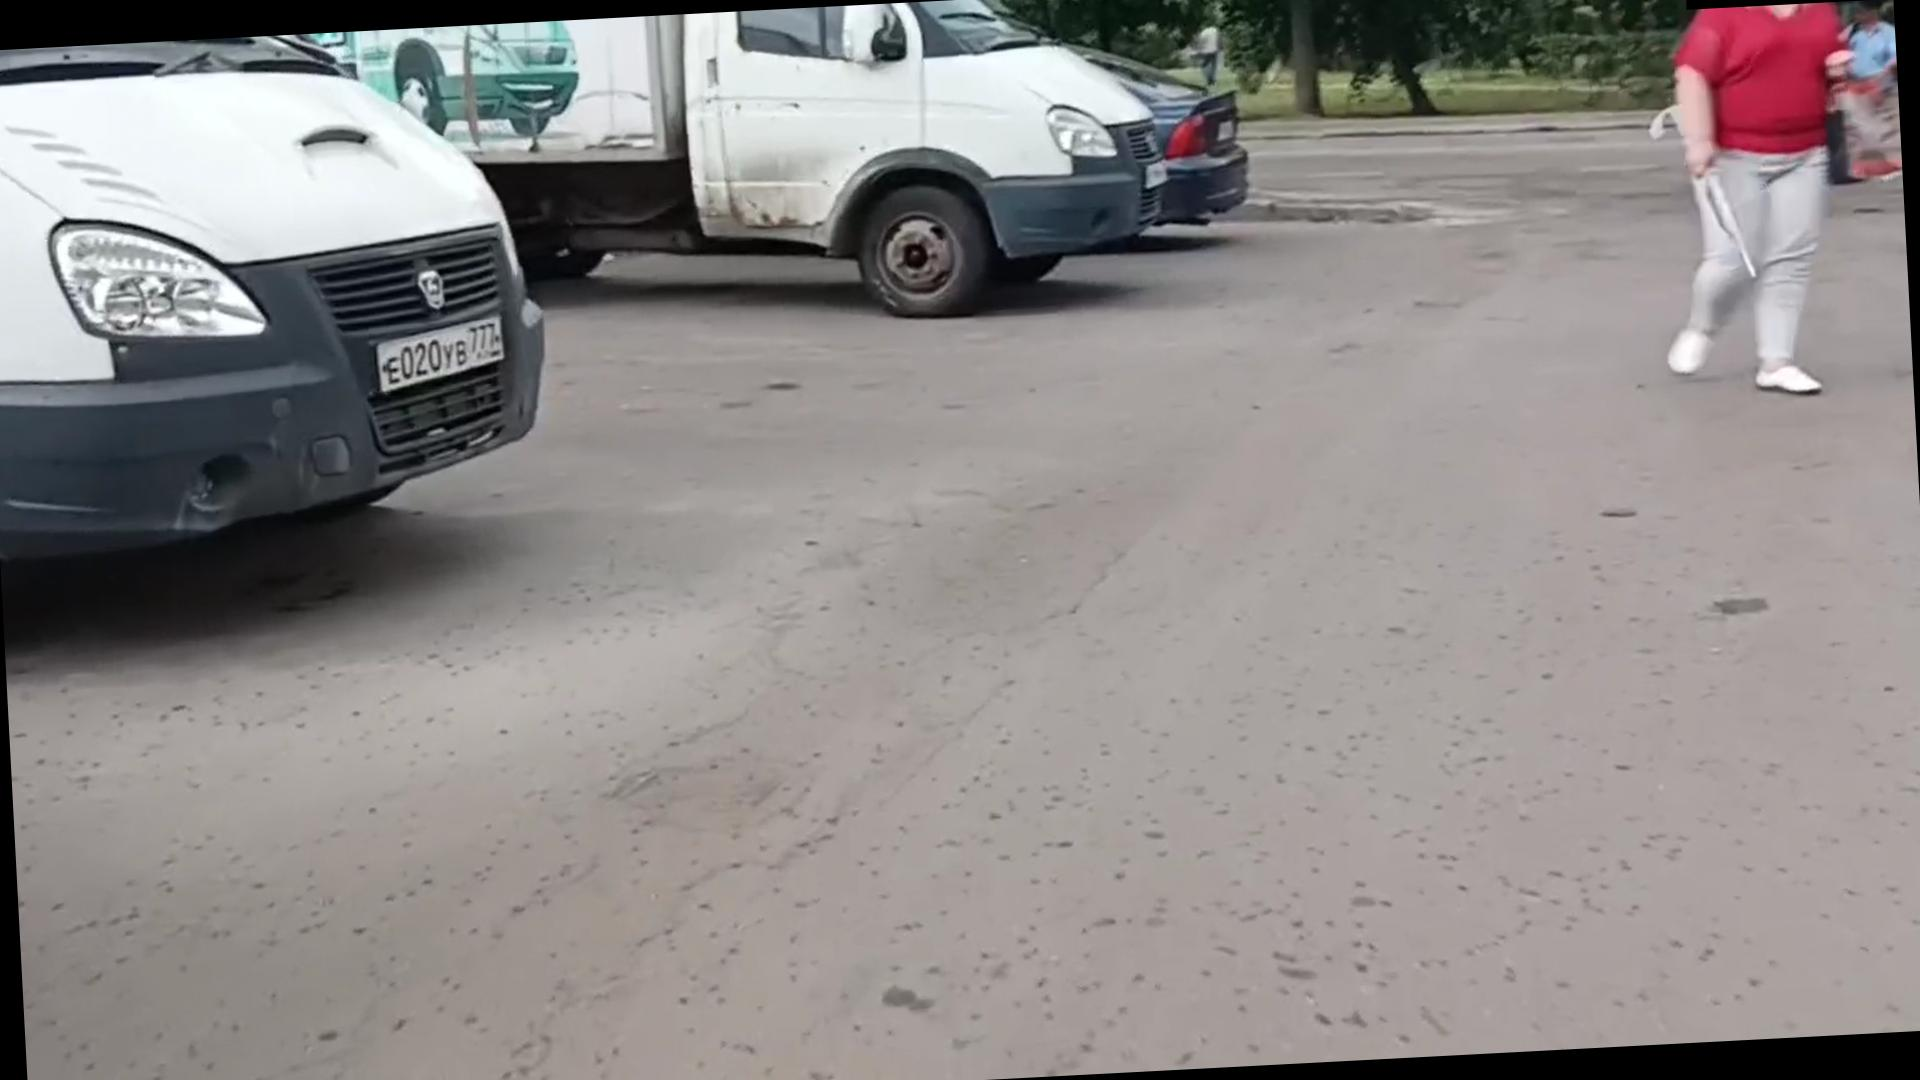plate: (370, 321, 510, 396)
